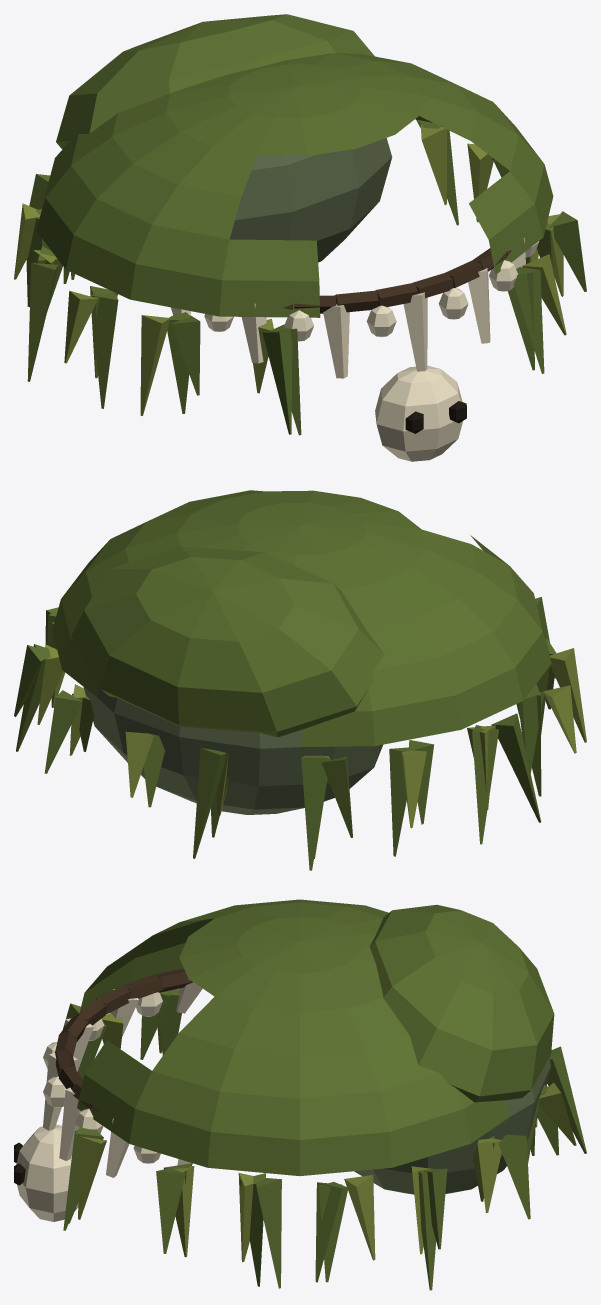
The model's file is mother_marrowroot_chest.glb.
3 renders of one model, top to bottom at view 1: azimuth 30°, elevation 25°; view 2: azimuth 150°, elevation 25°; view 3: azimuth 270°, elevation 25°, orthographic. The views are drawn at different scales.
Visible parts, largest first — view 1: mother_marrowroot_chest; view 2: mother_marrowroot_chest; view 3: mother_marrowroot_chest.
Boxes of the visible parts, bbox=[...] form: mother_marrowroot_chest: bbox=[14, 14, 586, 461]; mother_marrowroot_chest: bbox=[14, 490, 586, 870]; mother_marrowroot_chest: bbox=[14, 899, 586, 1290].
Size of the model in its own units: 1.19 by 0.6413 by 1.16.
